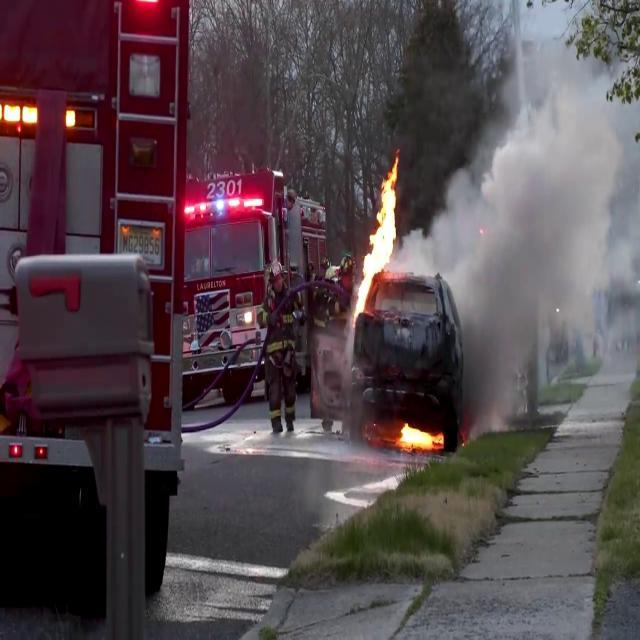Fire: (352, 150, 400, 322), (394, 413, 444, 457)
Smoke: (417, 5, 640, 421)
